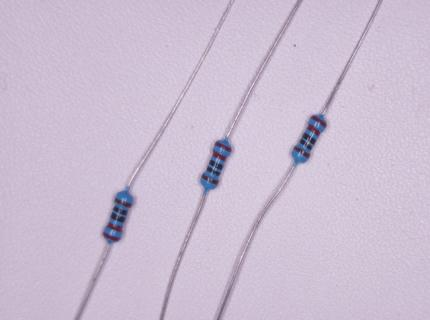Black band: (209, 160, 224, 171), (303, 133, 316, 145), (111, 213, 125, 223), (300, 140, 313, 150), (113, 207, 127, 216), (207, 167, 221, 176)
Brown band: (294, 146, 310, 158), (202, 175, 219, 185), (115, 199, 132, 208)
Red band: (310, 115, 327, 129), (214, 141, 232, 153), (103, 231, 121, 242), (106, 222, 123, 233), (307, 124, 321, 137), (212, 150, 227, 162)
